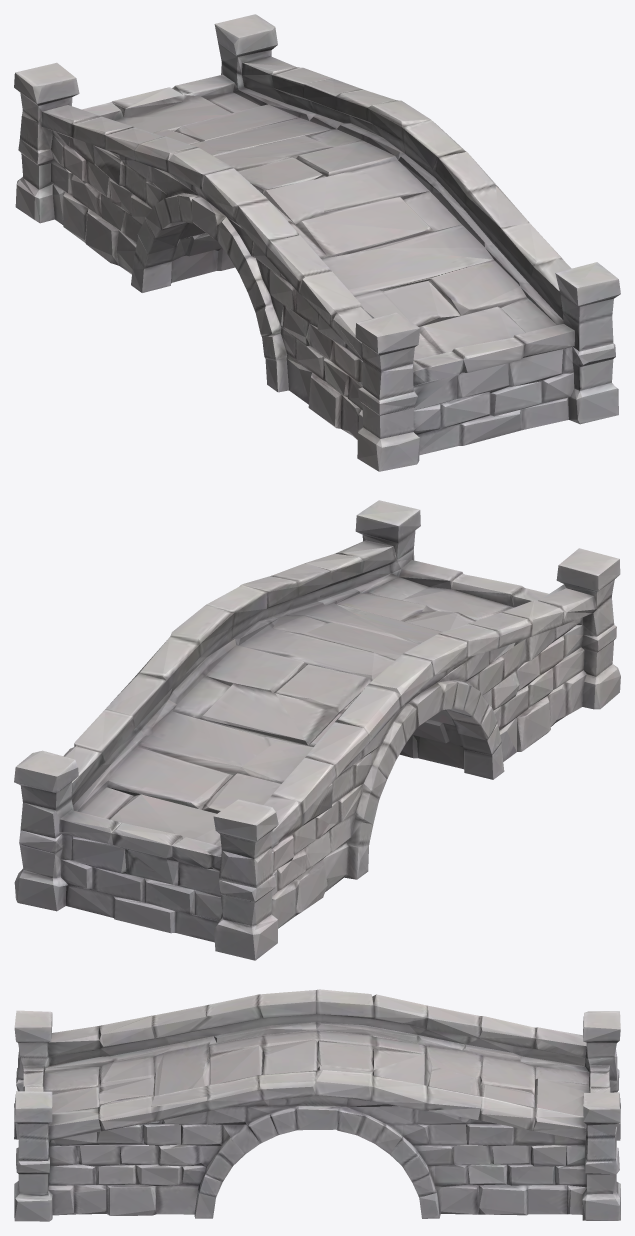
The model's file is oc_bridge.glb.
The picture shows the model from 3 angles, top to bottom: view 1: azimuth 30°, elevation 25°; view 2: azimuth 150°, elevation 25°; view 3: azimuth 270°, elevation 25°; orthographic projection. The views are drawn at different scales.
Parts seen in each view (by area): view 1: W_canal_bridge; view 2: W_canal_bridge; view 3: W_canal_bridge.
Boxes of the visible parts, <box> form: W_canal_bridge: <box>14,14,620,471</box>; W_canal_bridge: <box>14,500,620,960</box>; W_canal_bridge: <box>14,989,620,1221</box>.
Bounding box in the file's own units: 3.85 × 2.51 × 9.99.
Materials: 1 (1 with a texture image).
